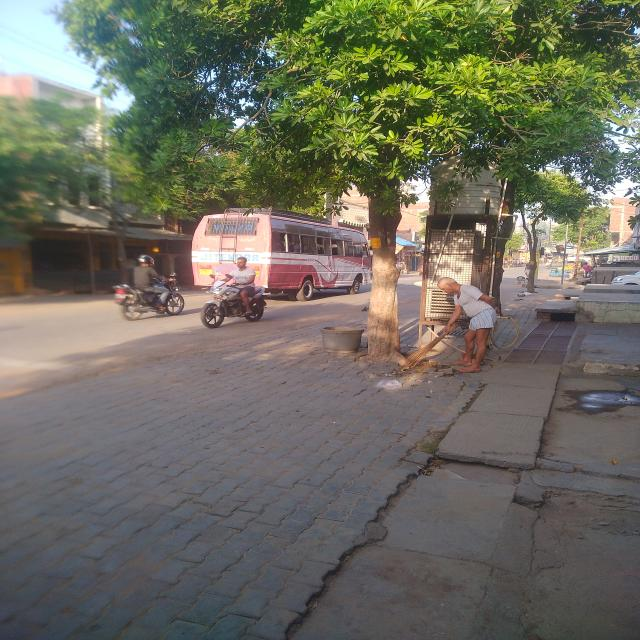Bike: (96, 258, 185, 330), (196, 271, 274, 332), (545, 258, 553, 269)
Bus: (190, 202, 386, 301)
Car: (609, 266, 640, 288)
